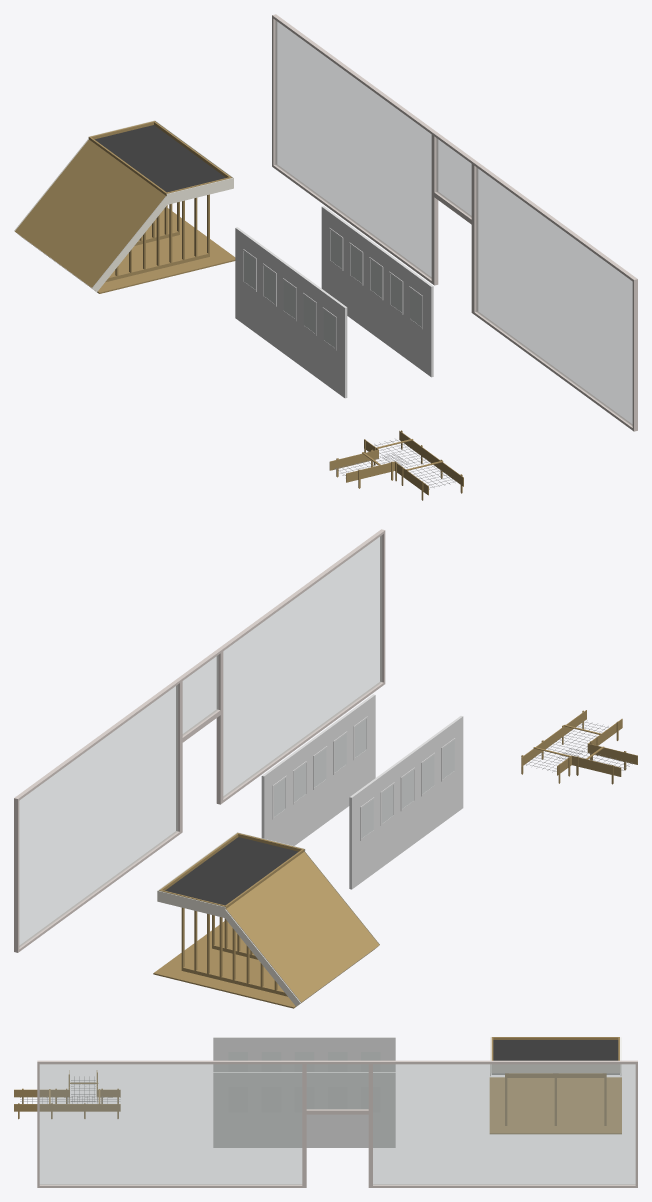
File: timmeren.obj
The picture shows the model from 3 angles, top to bottom: view 1: azimuth 30°, elevation 25°; view 2: azimuth 150°, elevation 25°; view 3: azimuth 270°, elevation 25°; orthographic projection. The views are drawn at different scales.
Visible parts, largest first — view 1: System Panel, Walls, Roofs, Rectangular Mullion, Floors, NLRS_28_SF_LIB_balk geschaafd vuren_gen_ISR, NLRS_28_SC_TLB_kolom vierkant hout_gen_ISR, NLRS_28_SF_LIB_balk staaf_gen_ISR; view 2: System Panel, Walls, Roofs, Rectangular Mullion, Floors, NLRS_28_SF_LIB_balk geschaafd vuren_gen_ISR, NLRS_28_SC_TLB_kolom vierkant hout_gen_ISR, NLRS_28_SF_LIB_balk staaf_gen_ISR; view 3: System Panel, Walls, Rectangular Mullion, Floors, Roofs, NLRS_28_SF_LIB_balk geschaafd vuren_gen_ISR, NLRS_28_SF_LIB_balk staaf_gen_ISR, NLRS_28_SC_TLB_kolom vierkant hout_gen_ISR, NLRS_28_SC_TLB_kolom vierkant hout_generiek_ISR.
Part boxes in pixels (<box>): System Panel: <box>275,20,632,425</box>; Walls: <box>14,120,463,495</box>; Roofs: <box>15,125,225,289</box>; Rectangular Mullion: <box>272,14,637,431</box>; Floors: <box>22,208,235,293</box>; NLRS_28_SF_LIB_balk geschaafd vuren_gen_ISR: <box>89,121,231,282</box>; NLRS_28_SC_TLB_kolom vierkant hout_gen_ISR: <box>115,194,209,275</box>; NLRS_28_SF_LIB_balk staaf_gen_ISR: <box>333,439,456,489</box>; System Panel: <box>19,535,381,946</box>; Walls: <box>157,694,637,1006</box>; Roofs: <box>165,837,379,1004</box>; Rectangular Mullion: <box>14,529,385,952</box>; Floors: <box>153,921,374,1008</box>; NLRS_28_SF_LIB_balk geschaafd vuren_gen_ISR: <box>159,833,304,996</box>; NLRS_28_SC_TLB_kolom vierkant hout_gen_ISR: <box>181,907,277,990</box>; NLRS_28_SF_LIB_balk staaf_gen_ISR: <box>525,720,632,772</box>; System Panel: <box>40,1064,635,1184</box>; Walls: <box>14,1037,621,1147</box>; Rectangular Mullion: <box>37,1060,637,1187</box>; Floors: <box>489,1077,621,1134</box>; Roofs: <box>491,1040,619,1074</box>; NLRS_28_SF_LIB_balk geschaafd vuren_gen_ISR: <box>491,1037,619,1125</box>; NLRS_28_SF_LIB_balk staaf_gen_ISR: <box>20,1077,119,1103</box>; NLRS_28_SC_TLB_kolom vierkant hout_gen_ISR: <box>505,1073,606,1123</box>; NLRS_28_SC_TLB_kolom vierkant hout_generiek_ISR: <box>18,1072,118,1119</box>.
Bounding box in the file's own units: 7.88 × 4.44 × 18.84.
